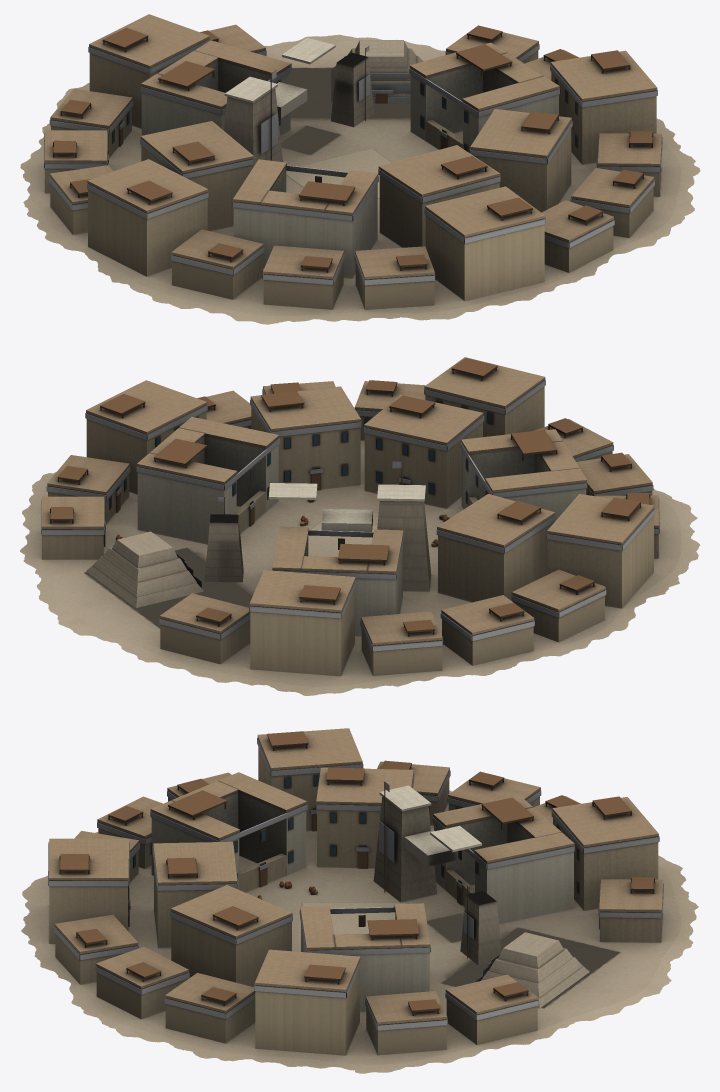
The model's file is bronze-town-big-a-nile.glb.
The picture shows the model from 3 angles, top to bottom: view 1: azimuth 30°, elevation 25°; view 2: azimuth 150°, elevation 25°; view 3: azimuth 270°, elevation 25°; orthographic projection.
Visible parts, largest first — view 1: LOD0; view 2: LOD0; view 3: LOD0.
Part boxes in pixels (<box>): LOD0: <box>20,14,700,324</box>; LOD0: <box>20,357,700,695</box>; LOD0: <box>21,728,698,1073</box>.
Size of what is drawn, in the model's own units: 7.97 by 1.43 by 7.91.
Materials: 3 (3 with a texture image).
